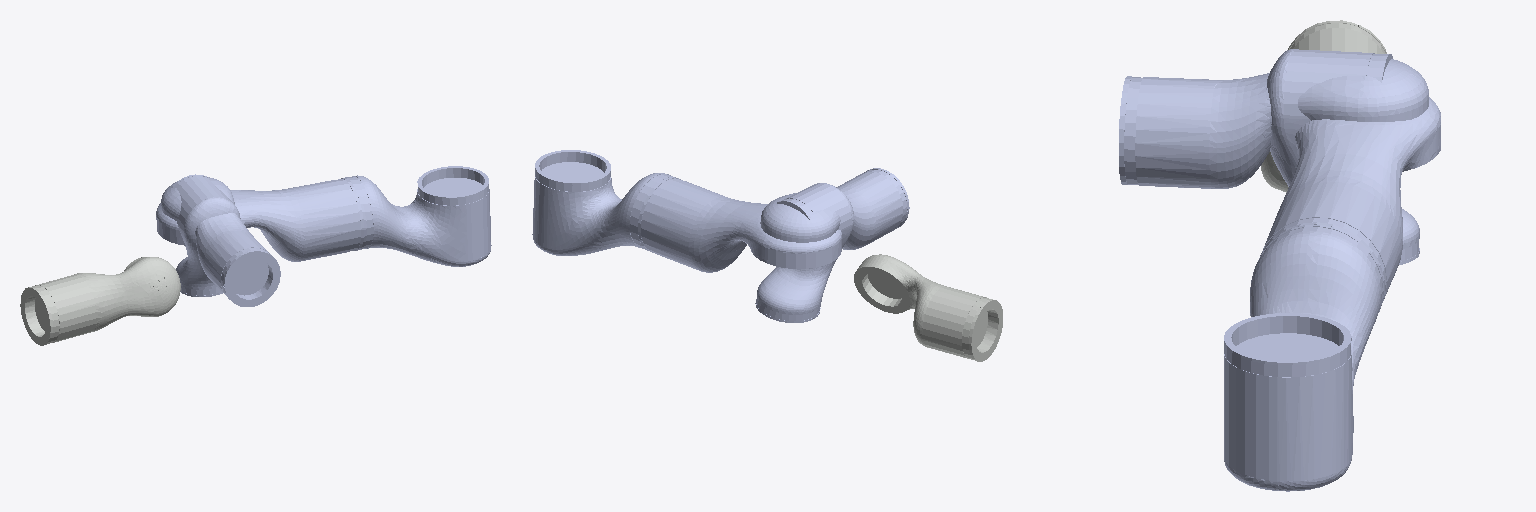
robot.urdf — urdf-five3:
<robot
  name="urdf-five3">
  <link
    name="Link111">
    <inertial>
      <origin
        xyz="0.0284046972660885 -0.00981060404810299 0.0222000386975785"
        rpy="0 0 0" />
      <mass
        value="0.22621959250221" />
      <inertia
        ixx="0.000161057742168925"
        ixy="-3.93039257205975E-06"
        ixz="-2.59552833985103E-06"
        iyy="0.000358621491446785"
        iyz="4.70540238948447E-06"
        izz="0.000257940666810454" />
    </inertial>
    <visual>
      <origin
        xyz="0 0 0"
        rpy="0 0 0" />
      <geometry>
        <mesh
          filename="package://urdf-five3/meshes/Link111.STL" />
      </geometry>
      <material
        name="">
        <color
          rgba="0.827450980392157 0.83921568627451 0.827450980392157 1" />
      </material>
    </visual>
    <collision>
      <origin
        xyz="0 0 0"
        rpy="0 0 0" />
      <geometry>
        <mesh
          filename="package://urdf-five3/meshes/Link111.STL" />
      </geometry>
    </collision>
  </link>
  <link
    name="Link1">
    <inertial>
      <origin
        xyz="0.0107729817589723 0.00213781834563882 -1.34009238303423E-07"
        rpy="0 0 0" />
      <mass
        value="0.00330620599604871" />
      <inertia
        ixx="1.55837657646135E-07"
        ixy="-3.78958094877833E-08"
        ixz="-5.07264353075226E-12"
        iyy="5.30383928507338E-07"
        iyz="-1.43523102869642E-12"
        izz="5.55164105212297E-07" />
    </inertial>
    <visual>
      <origin
        xyz="0 0 0"
        rpy="0 0 0" />
      <geometry>
        <mesh
          filename="package://urdf-five3/meshes/Link1.STL" />
      </geometry>
      <material
        name="">
        <color
          rgba="0.792156862745098 0.819607843137255 0.933333333333333 1" />
      </material>
    </visual>
    <collision>
      <origin
        xyz="0 0 0"
        rpy="0 0 0" />
      <geometry>
        <mesh
          filename="package://urdf-five3/meshes/Link1.STL" />
      </geometry>
    </collision>
  </link>
  <joint
    name="Link1"
    type="revolute">
    <origin
      xyz="0.08225 -0.0077547 -0.0040172"
      rpy="5.2178E-10 -6.245E-17 -0.14966" />
    <parent
      link="Link111" />
    <child
      link="Link1" />
    <axis
      xyz="0 0 1" />
    <limit
      lower="-1.6"
      upper="0"
      effort="1"
      velocity="1" />
  </joint>
  <link
    name="Link11">
    <inertial>
      <origin
        xyz="0.019017916514892 0.00563447754295066 1.90796464460963E-08"
        rpy="0 0 0" />
      <mass
        value="0.00453366822308025" />
      <inertia
        ixx="8.56969764665792E-08"
        ixy="-3.65502775787085E-08"
        ixz="2.02841411241907E-12"
        iyy="7.58232170757561E-07"
        iyz="6.07603435089188E-13"
        izz="7.68830975890361E-07" />
    </inertial>
    <visual>
      <origin
        xyz="0 0 0"
        rpy="0 0 0" />
      <geometry>
        <mesh
          filename="package://urdf-five3/meshes/Link11.STL" />
      </geometry>
      <material
        name="">
        <color
          rgba="1 1 1 1" />
      </material>
    </visual>
    <collision>
      <origin
        xyz="0 0 0"
        rpy="0 0 0" />
      <geometry>
        <mesh
          filename="package://urdf-five3/meshes/Link11.STL" />
      </geometry>
    </collision>
  </link>
  <joint
    name="Link11"
    type="revolute">
    <origin
      xyz="0.032132 0 0"
      rpy="-5.086E-10 -1.1653E-10 -0.22524" />
    <parent
      link="Link1" />
    <child
      link="Link11" />
    <axis
      xyz="0 0 1" />
    <limit
      lower="-1.7"
      upper="0"
      effort="1"
      velocity="1" />
  </joint>
  <link
    name="Link2">
    <inertial>
      <origin
        xyz="0.0107729781873397 0.00213783567195037 -1.14076048385314E-07"
        rpy="0 0 0" />
      <mass
        value="0.00330621565435093" />
      <inertia
        ixx="1.55837752420093E-07"
        ixy="-3.78955767951184E-08"
        ixz="-4.51740252002264E-12"
        iyy="5.30384784494186E-07"
        iyz="-1.08751322448059E-12"
        izz="5.55164342998361E-07" />
    </inertial>
    <visual>
      <origin
        xyz="0 0 0"
        rpy="0 0 0" />
      <geometry>
        <mesh
          filename="package://urdf-five3/meshes/Link2.STL" />
      </geometry>
      <material
        name="">
        <color
          rgba="0.792156862745098 0.819607843137255 0.933333333333333 1" />
      </material>
    </visual>
    <collision>
      <origin
        xyz="0 0 0"
        rpy="0 0 0" />
      <geometry>
        <mesh
          filename="package://urdf-five3/meshes/Link2.STL" />
      </geometry>
    </collision>
  </link>
  <joint
    name="Link2"
    type="revolute">
    <origin
      xyz="0.081939 -0.0077547 0.015305"
      rpy="0.0056158 -0.034452 -0.16161" />
    <parent
      link="Link111" />
    <child
      link="Link2" />
    <axis
      xyz="0 0 1" />
    <limit
      lower="-1.6"
      upper="0"
      effort="1"
      velocity="1" />
  </joint>
  <link
    name="Link22">
    <inertial>
      <origin
        xyz="0.0190179451505274 0.00563447968575673 1.97663586783137E-08"
        rpy="0 0 0" />
      <mass
        value="0.00453367017295165" />
      <inertia
        ixx="8.5696963969299E-08"
        ixy="-3.6550923619766E-08"
        ixz="1.59786933213099E-12"
        iyy="7.58233066456215E-07"
        iyz="6.81108952684927E-13"
        izz="7.68832070821997E-07" />
    </inertial>
    <visual>
      <origin
        xyz="0 0 0"
        rpy="0 0 0" />
      <geometry>
        <mesh
          filename="package://urdf-five3/meshes/Link22.STL" />
      </geometry>
      <material
        name="">
        <color
          rgba="1 1 1 1" />
      </material>
    </visual>
    <collision>
      <origin
        xyz="0 0 0"
        rpy="0 0 0" />
      <geometry>
        <mesh
          filename="package://urdf-five3/meshes/Link22.STL" />
      </geometry>
    </collision>
  </link>
  <joint
    name="Link22"
    type="revolute">
    <origin
      xyz="0.032132 0 0"
      rpy="-5.0853E-10 -1.1686E-10 -0.22588" />
    <parent
      link="Link2" />
    <child
      link="Link22" />
    <axis
      xyz="0 0 1" />
    <limit
      lower="-1.7"
      upper="0"
      effort="1"
      velocity="1" />
  </joint>
  <link
    name="Link3">
    <inertial>
      <origin
        xyz="0.0107730930654459 0.00213783260244832 -8.57328914740003E-08"
        rpy="0 0 0" />
      <mass
        value="0.0033061482917439" />
      <inertia
        ixx="1.55835970052989E-07"
        ixy="-3.78956285985318E-08"
        ixz="-3.98553229256186E-12"
        iyy="5.30379079243718E-07"
        iyz="-6.32137439938121E-13"
        izz="5.5516012983777E-07" />
    </inertial>
    <visual>
      <origin
        xyz="0 0 0"
        rpy="0 0 0" />
      <geometry>
        <mesh
          filename="package://urdf-five3/meshes/Link3.STL" />
      </geometry>
      <material
        name="">
        <color
          rgba="0.792156862745098 0.819607843137255 0.933333333333333 1" />
      </material>
    </visual>
    <collision>
      <origin
        xyz="0 0 0"
        rpy="0 0 0" />
      <geometry>
        <mesh
          filename="package://urdf-five3/meshes/Link3.STL" />
      </geometry>
    </collision>
  </link>
  <joint
    name="Link3"
    type="revolute">
    <origin
      xyz="0.080765 -0.0077547 0.034505"
      rpy="0.010408 -0.086645 -0.11971" />
    <parent
      link="Link111" />
    <child
      link="Link3" />
    <axis
      xyz="0 0 1" />
    <limit
      lower="-1.6"
      upper="0"
      effort="1"
      velocity="1" />
  </joint>
  <link
    name="Link33">
    <inertial>
      <origin
        xyz="0.01901789870244 0.00563447090562313 1.70050325960271E-08"
        rpy="0 0 0" />
      <mass
        value="0.00453366652527048" />
      <inertia
        ixx="8.56969335058099E-08"
        ixy="-3.65501984156752E-08"
        ixz="1.30339239962579E-12"
        iyy="7.58232117591424E-07"
        iyz="7.47249892192207E-13"
        izz="7.68830949295352E-07" />
    </inertial>
    <visual>
      <origin
        xyz="0 0 0"
        rpy="0 0 0" />
      <geometry>
        <mesh
          filename="package://urdf-five3/meshes/Link33.STL" />
      </geometry>
      <material
        name="">
        <color
          rgba="1 1 1 1" />
      </material>
    </visual>
    <collision>
      <origin
        xyz="0 0 0"
        rpy="0 0 0" />
      <geometry>
        <mesh
          filename="package://urdf-five3/meshes/Link33.STL" />
      </geometry>
    </collision>
  </link>
  <joint
    name="Link33"
    type="revolute">
    <origin
      xyz="0.032132 0 0"
      rpy="-5.0314E-10 -1.3824E-10 -0.26815" />
    <parent
      link="Link3" />
    <child
      link="Link33" />
    <axis
      xyz="0 0 1" />
    <limit
      lower="-1.7"
      upper="0"
      effort="1"
      velocity="1" />
  </joint>
  <link
    name="Link4">
    <inertial>
      <origin
        xyz="0.0107729931213964 0.00213782731321216 -7.95186542376647E-08"
        rpy="0 0 0" />
      <mass
        value="0.00330620800050046" />
      <inertia
        ixx="1.55837389573248E-07"
        ixy="-3.78958987950181E-08"
        ixz="-3.73884747536307E-12"
        iyy="5.30384597648764E-07"
        iyz="-3.63224479792676E-13"
        izz="5.55163794949727E-07" />
    </inertial>
    <visual>
      <origin
        xyz="0 0 0"
        rpy="0 0 0" />
      <geometry>
        <mesh
          filename="package://urdf-five3/meshes/Link4.STL" />
      </geometry>
      <material
        name="">
        <color
          rgba="0.792156862745098 0.819607843137255 0.933333333333333 1" />
      </material>
    </visual>
    <collision>
      <origin
        xyz="0 0 0"
        rpy="0 0 0" />
      <geometry>
        <mesh
          filename="package://urdf-five3/meshes/Link4.STL" />
      </geometry>
    </collision>
  </link>
  <joint
    name="Link4"
    type="revolute">
    <origin
      xyz="0.078587 -0.0077547 0.053617"
      rpy="0.022524 -0.13781 -0.16255" />
    <parent
      link="Link111" />
    <child
      link="Link4" />
    <axis
      xyz="0 0 1" />
    <limit
      lower="-1.6"
      upper="0"
      effort="1"
      velocity="1" />
  </joint>
  <link
    name="Link44">
    <inertial>
      <origin
        xyz="0.0155924853997512 0.00555619186912998 -1.21775195708468E-07"
        rpy="0 0 0" />
      <mass
        value="0.00356886192445218" />
      <inertia
        ixx="6.67767175628229E-08"
        ixy="-2.70385196277176E-08"
        ixz="-4.60032318294332E-12"
        iyy="4.33416353432936E-07"
        iyz="-1.36538016248102E-12"
        izz="4.39760949009649E-07" />
    </inertial>
    <visual>
      <origin
        xyz="0 0 0"
        rpy="0 0 0" />
      <geometry>
        <mesh
          filename="package://urdf-five3/meshes/Link44.STL" />
      </geometry>
      <material
        name="">
        <color
          rgba="1 1 1 1" />
      </material>
    </visual>
    <collision>
      <origin
        xyz="0 0 0"
        rpy="0 0 0" />
      <geometry>
        <mesh
          filename="package://urdf-five3/meshes/Link44.STL" />
      </geometry>
    </collision>
  </link>
  <joint
    name="Link44"
    type="revolute">
    <origin
      xyz="0.032132 0 0"
      rpy="-5.0686E-10 -1.2389E-10 -0.23972" />
    <parent
      link="Link4" />
    <child
      link="Link44" />
    <axis
      xyz="0 0 1" />
    <limit
      lower="-1.7"
      upper="0"
      effort="1"
      velocity="1" />
  </joint>
  <link
    name="Link5">
    <inertial>
      <origin
        xyz="-0.000668287872925624 -0.00209320996353089 0.0037633441647693"
        rpy="0 0 0" />
      <mass
        value="0.00487390663164139" />
      <inertia
        ixx="1.30408513803687E-07"
        ixy="-8.92030281859617E-09"
        ixz="-1.7660325194859E-08"
        iyy="1.70578986810531E-07"
        iyz="-1.02749399337787E-09"
        izz="2.1170907785655E-07" />
    </inertial>
    <visual>
      <origin
        xyz="0 0 0"
        rpy="0 0 0" />
      <geometry>
        <mesh
          filename="package://urdf-five3/meshes/Link5.STL" />
      </geometry>
      <material
        name="">
        <color
          rgba="0.827450980392157 0.83921568627451 0.827450980392157 1" />
      </material>
    </visual>
    <collision>
      <origin
        xyz="0 0 0"
        rpy="0 0 0" />
      <geometry>
        <mesh
          filename="package://urdf-five3/meshes/Link5.STL" />
      </geometry>
    </collision>
  </link>
  <joint
    name="Link5"
    type="revolute">
    <origin
      xyz="0.0089225 -0.022949 -0.00699"
      rpy="0.092365 1.1827 -1.4853" />
    <parent
      link="Link111" />
    <child
      link="Link5" />
    <axis
      xyz="0 1 0" />
    <limit
      lower="-1"
      upper="0.3"
      effort="1"
      velocity="1" />
  </joint>
  <link
    name="Link51">
    <inertial>
      <origin
        xyz="0.0261732090129406 0.00353701767650547 -1.92601341111875E-07"
        rpy="0 0 0" />
      <mass
        value="0.00652729219675812" />
      <inertia
        ixx="8.93817123585481E-07"
        ixy="6.28368840765271E-08"
        ixz="-2.00458419649248E-11"
        iyy="2.37370603240555E-06"
        iyz="-1.67466441559282E-12"
        izz="2.75021956933668E-06" />
    </inertial>
    <visual>
      <origin
        xyz="0 0 0"
        rpy="0 0 0" />
      <geometry>
        <mesh
          filename="package://urdf-five3/meshes/Link51.STL" />
      </geometry>
      <material
        name="">
        <color
          rgba="0.792156862745098 0.819607843137255 0.933333333333333 1" />
      </material>
    </visual>
    <collision>
      <origin
        xyz="0 0 0"
        rpy="0 0 0" />
      <geometry>
        <mesh
          filename="package://urdf-five3/meshes/Link51.STL" />
      </geometry>
    </collision>
  </link>
  <joint
    name="Link51"
    type="revolute">
    <origin
      xyz="0.0065 -0.0035 0.00425"
      rpy="3.1416 -5.2736E-16 0.96726" />
    <parent
      link="Link5" />
    <child
      link="Link51" />
    <axis
      xyz="0 0 -1" />
    <limit
      lower="0"
      upper="0.4"
      effort="1"
      velocity="1" />
  </joint>
  <link
    name="Link52">
    <inertial>
      <origin
        xyz="-0.007316119869056 -0.00552223433089214 2.14610152510231E-07"
        rpy="0 0 0" />
      <mass
        value="0.0022695308360543" />
      <inertia
        ixx="1.7281059843115E-07"
        ixy="4.52282139518593E-08"
        ixz="-2.88816078436063E-12"
        iyy="2.78046552011382E-07"
        iyz="7.05843881266438E-13"
        izz="2.99630657437474E-07" />
    </inertial>
    <visual>
      <origin
        xyz="0 0 0"
        rpy="0 0 0" />
      <geometry>
        <mesh
          filename="package://urdf-five3/meshes/Link52.STL" />
      </geometry>
      <material
        name="">
        <color
          rgba="0.827450980392157 0.83921568627451 0.827450980392157 1" />
      </material>
    </visual>
    <collision>
      <origin
        xyz="0 0 0"
        rpy="0 0 0" />
      <geometry>
        <mesh
          filename="package://urdf-five3/meshes/Link52.STL" />
      </geometry>
    </collision>
  </link>
  <joint
    name="Link52"
    type="revolute">
    <origin
      xyz="0.056001 0 0"
      rpy="0 -1.3878E-16 2.9661" />
    <parent
      link="Link51" />
    <child
      link="Link52" />
    <axis
      xyz="0 0 1" />
    <limit
      lower="-0.4"
      upper="0"
      effort="1"
      velocity="1" />
  </joint>
  <link
    name="Link53">
    <inertial>
      <origin
        xyz="-3.3937612879259E-06 0.0106230303829815 0.000584861433263272"
        rpy="0 0 0" />
      <mass
        value="0.00330869751403717" />
      <inertia
        ixx="1.96169236089202E-07"
        ixy="-1.43223823727531E-10"
        ixz="5.64113109591019E-11"
        iyy="8.67914197835909E-08"
        iyz="2.46315104630635E-08"
        izz="1.85481756939709E-07" />
    </inertial>
    <visual>
      <origin
        xyz="0 0 0"
        rpy="0 0 0" />
      <geometry>
        <mesh
          filename="package://urdf-five3/meshes/Link53.STL" />
      </geometry>
      <material
        name="">
        <color
          rgba="0.827450980392157 0.83921568627451 0.827450980392157 1" />
      </material>
    </visual>
    <collision>
      <origin
        xyz="0 0 0"
        rpy="0 0 0" />
      <geometry>
        <mesh
          filename="package://urdf-five3/meshes/Link53.STL" />
      </geometry>
    </collision>
  </link>
  <joint
    name="Link53"
    type="revolute">
    <origin
      xyz="-0.022653 0 0"
      rpy="1.7291 -1.5708 0" />
    <parent
      link="Link52" />
    <child
      link="Link53" />
    <axis
      xyz="1 0 0" />
    <limit
      lower="-1"
      upper="0"
      effort="1"
      velocity="1" />
  </joint>
</robot>

--- What the picture shows (computed from the rendered views, not written in the file) ---
The picture shows the robot from 3 angles, left to right: view 1: azimuth 30°, elevation 25°; view 2: azimuth 150°, elevation 25°; view 3: azimuth 270°, elevation 25°; orthographic projection.
Model urdf-five3 with 13 links and 12 joints (12 revolute), rooted at Link111, posed all joints at 0.
Visible links, largest first — view 1: Link2, Link5, Link3, Link4; view 2: Link2, Link5, Link3, Link4; view 3: Link2, Link3, Link4, Link5.
Link boxes in pixels (<box>): Link2: <box>156,166,491,266</box>; Link5: <box>20,257,180,345</box>; Link3: <box>161,177,280,306</box>; Link4: <box>171,174,240,296</box>; Link2: <box>532,150,841,272</box>; Link5: <box>854,254,1002,361</box>; Link3: <box>760,168,909,249</box>; Link4: <box>755,183,853,322</box>; Link2: <box>1224,97,1440,491</box>; Link3: <box>1119,59,1428,188</box>; Link4: <box>1267,49,1419,264</box>; Link5: <box>1261,20,1386,192</box>.
Size in the robot's own frame: 0.4774 by 0.1714 by 0.1251 metres.
4 mesh visuals loaded from 13 distinct referenced files (4 binary STL); not drawn: 9 (reference not matched to a file when rendering).